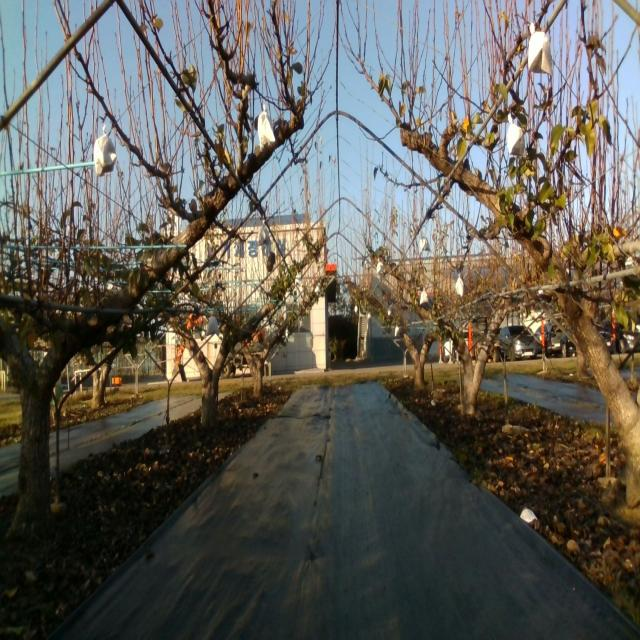pearbags: (528, 22, 554, 74), (93, 124, 117, 178), (256, 107, 277, 155), (506, 114, 527, 158), (206, 314, 219, 336), (260, 224, 270, 246)
